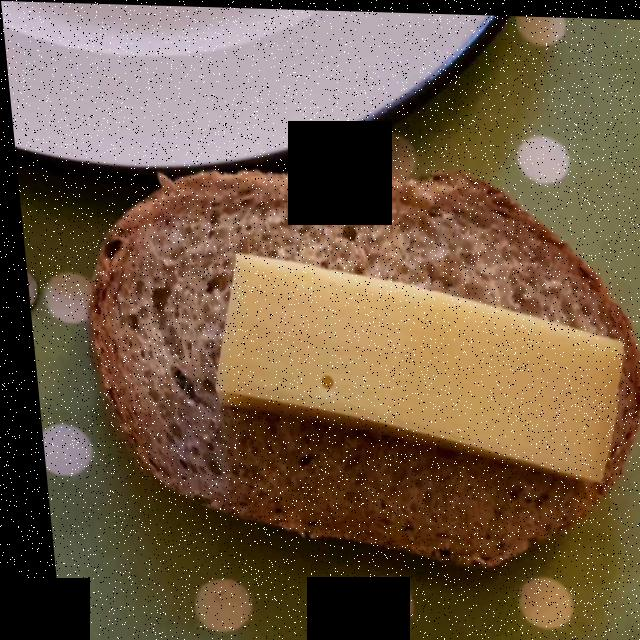bread-wholemeal: (91, 168, 627, 540)
hard-cheese: (204, 242, 638, 484)
